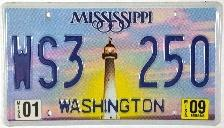0: (189, 34, 210, 89)
2: (136, 34, 162, 89)
3: (61, 34, 87, 90)
5: (162, 33, 186, 89)
S: (35, 34, 59, 90)
W: (9, 34, 34, 92)
